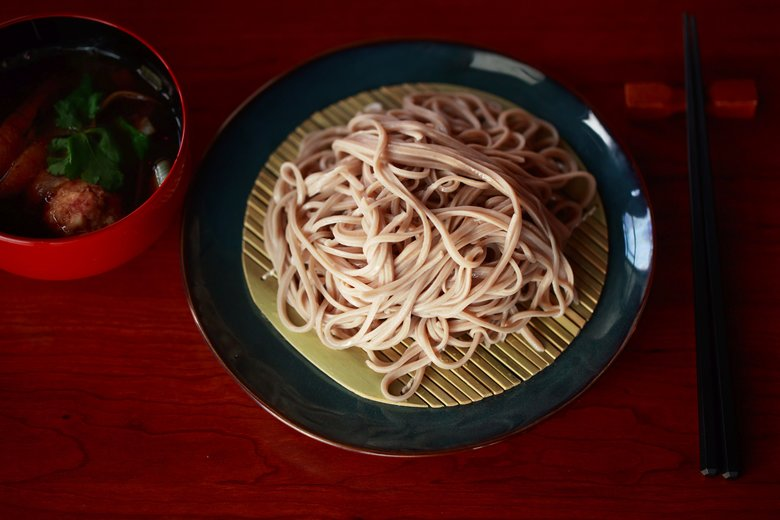Soba: (284, 89, 593, 393)
